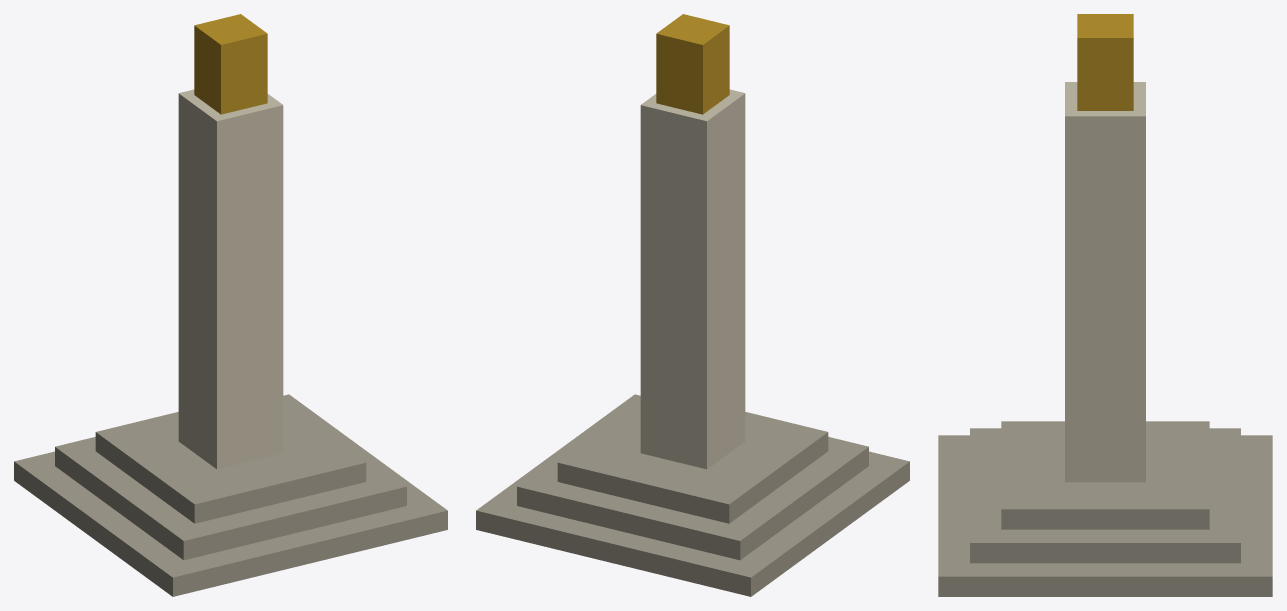
Rendered from tugu-zapin-lod2.glb.
3 renders of one model, left to right at view 1: azimuth 30°, elevation 25°; view 2: azimuth 150°, elevation 25°; view 3: azimuth 270°, elevation 25°, orthographic. The views are drawn at different scales.
Parts seen in each view (by area): view 1: tugu-zapin_LOD2; view 2: tugu-zapin_LOD2; view 3: tugu-zapin_LOD2.
Boxes of the visible parts, x1,y1,x2,y2 form: tugu-zapin_LOD2: [14, 14, 447, 596]; tugu-zapin_LOD2: [476, 14, 909, 596]; tugu-zapin_LOD2: [938, 14, 1272, 596].
Bounding box in the file's own units: 7.44 × 12.3 × 7.44.
